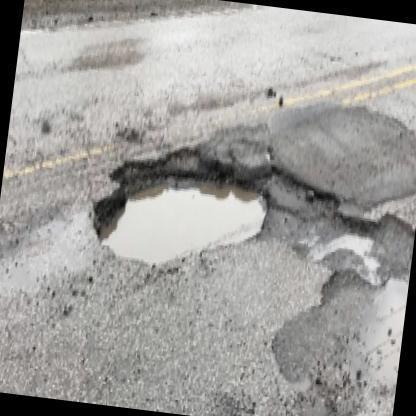pothole: (90, 140, 276, 264), (280, 172, 416, 291)
